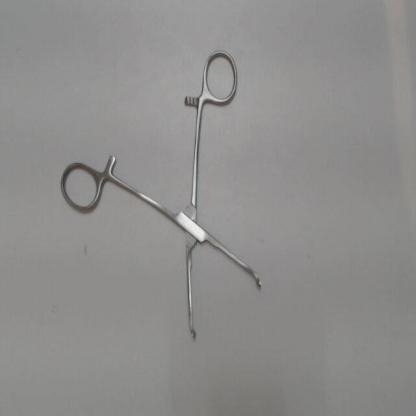Allis Tissue Forceps: (53, 44, 275, 354)
